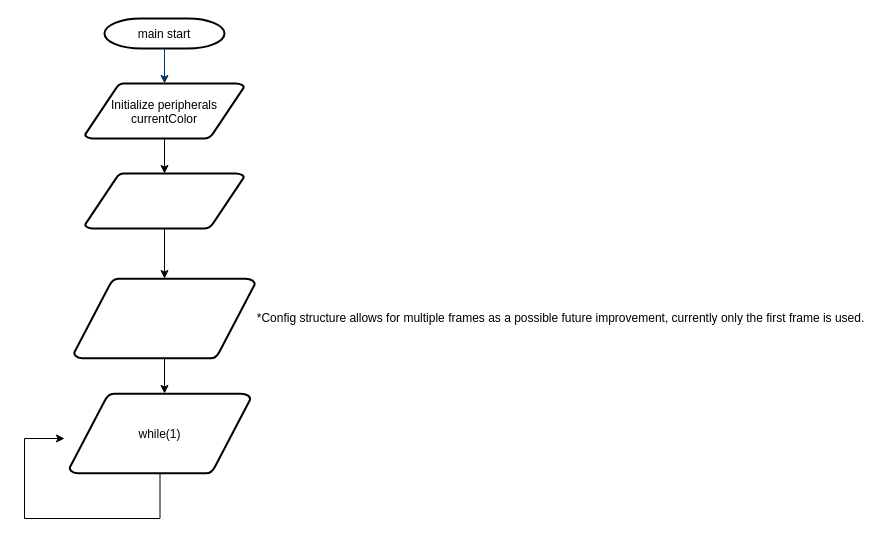
Image size: 888x544. Some labels were removed from this diagram. Each missing label, with the centre of its shape:
"ClearLEDs" goes at (x=164, y=200).
"SetFrame 0" goes at (x=164, y=318).
